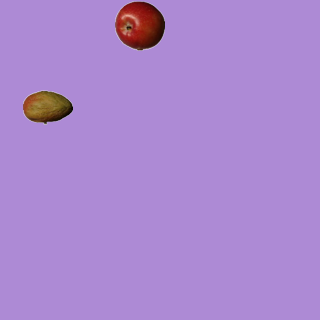Apple Braeburn: (114, 0, 164, 50)
Papaya: (22, 82, 72, 132)
